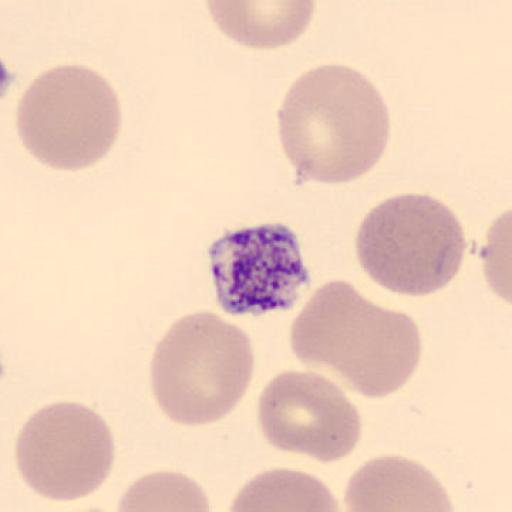Platelet: (206, 220, 314, 317)
RBC: (288, 278, 423, 400), (276, 62, 391, 186), (148, 309, 256, 427), (14, 62, 124, 172), (352, 192, 466, 298), (13, 399, 115, 504), (257, 367, 363, 465), (344, 453, 454, 512), (204, 0, 318, 51), (226, 467, 340, 512), (115, 469, 211, 512), (479, 204, 512, 308), (45, 503, 120, 512)
